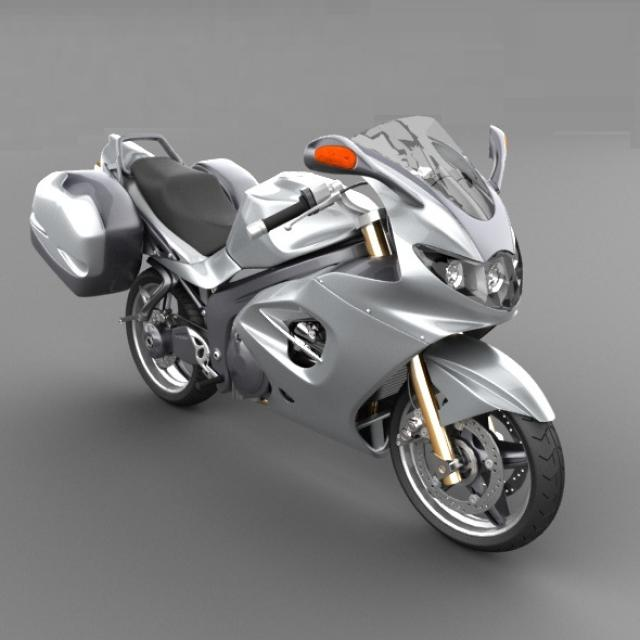Motorcycle: (29, 116, 565, 552)
